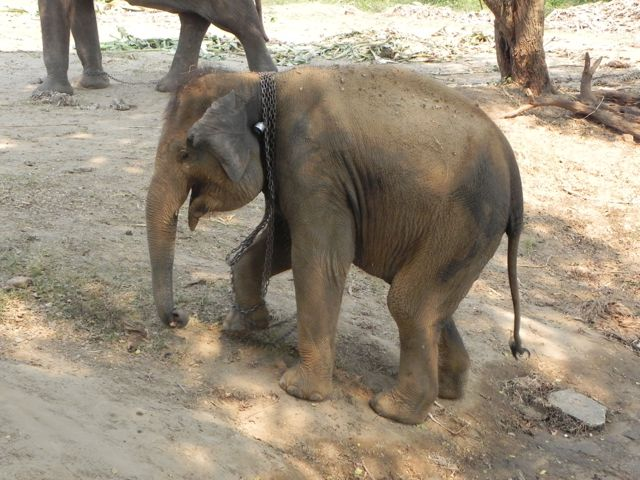elephant: (126, 50, 551, 426)
